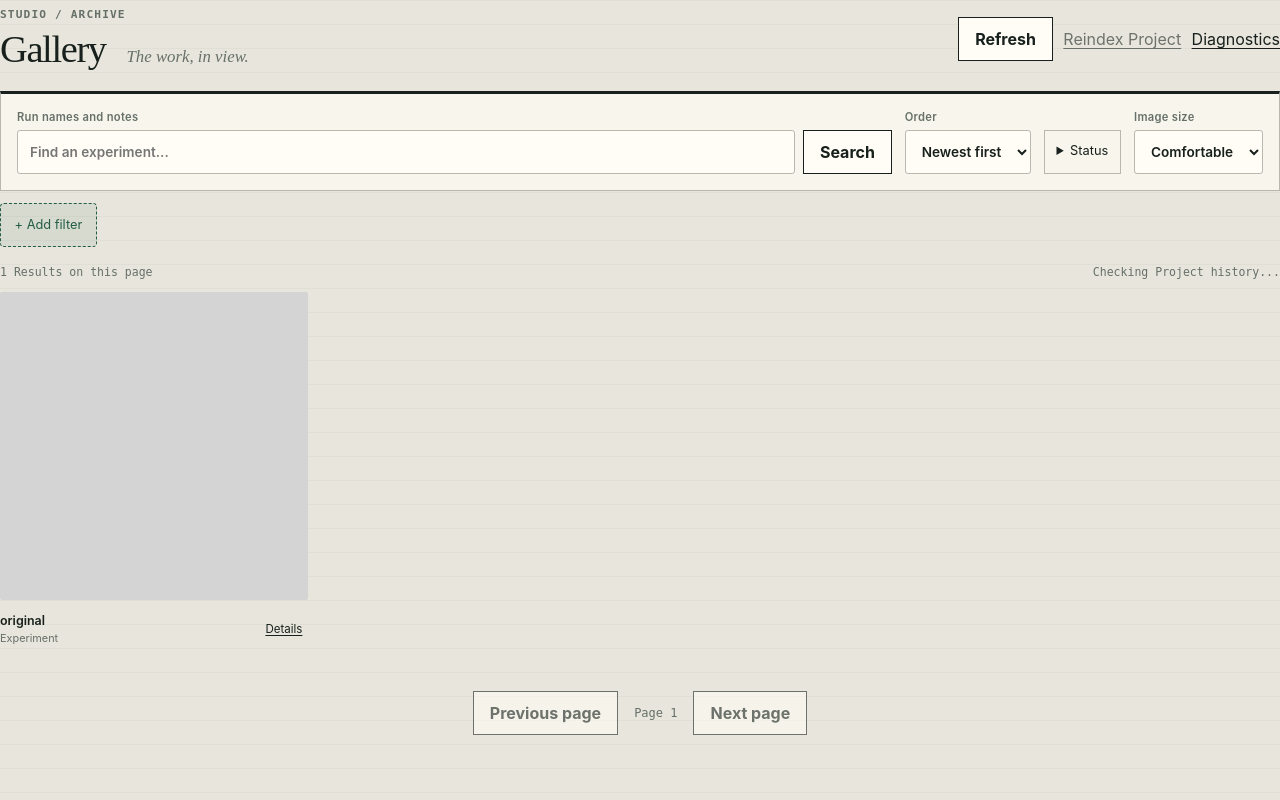
ProjectBrowser › offers an execution-independent frozen setup after gallery inspection fails
What coordinates should you click on to do the following:
click the button with aria-label "Details for"
I would click on:
 (284, 629)
Its box is [260,607,308,651].
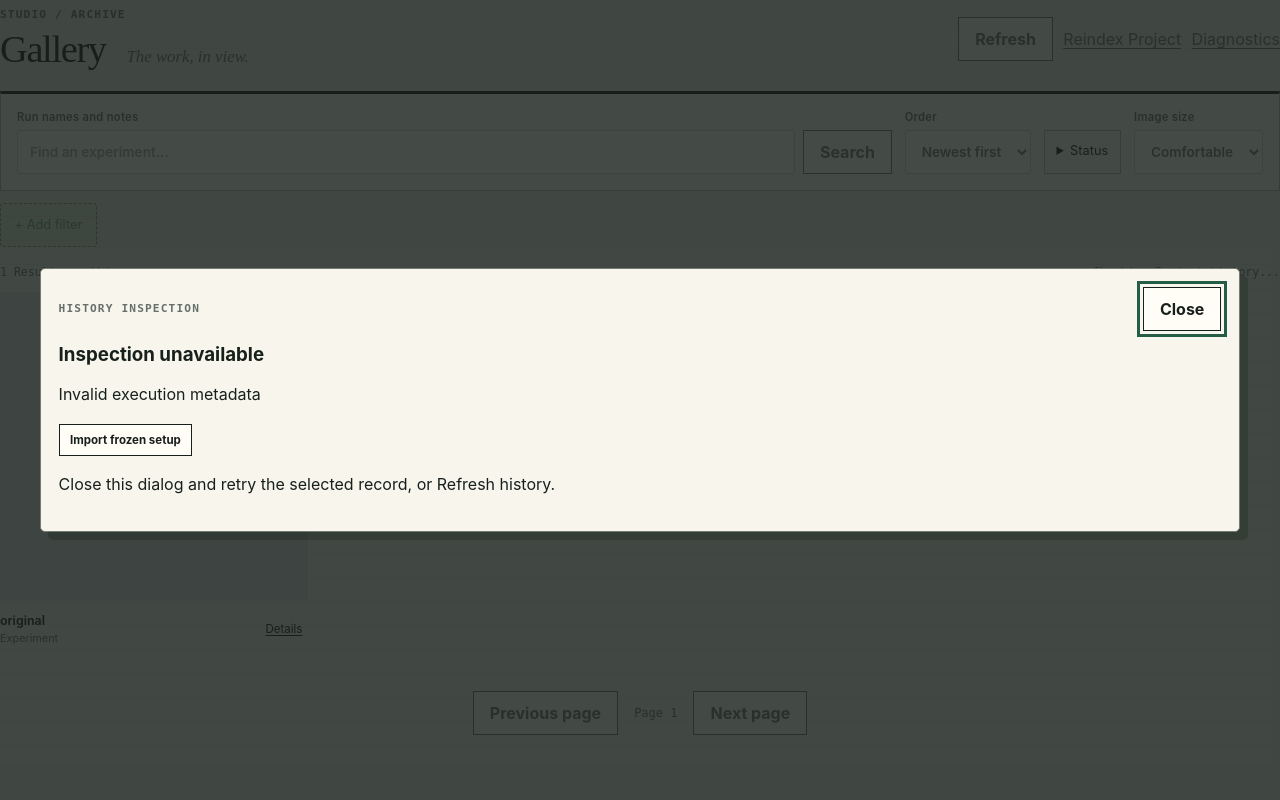
What coordinates should you click on to do the following:
click the button "Import frozen setup"
I would click on:
 (125, 440)
Its box is [59,424,192,456].
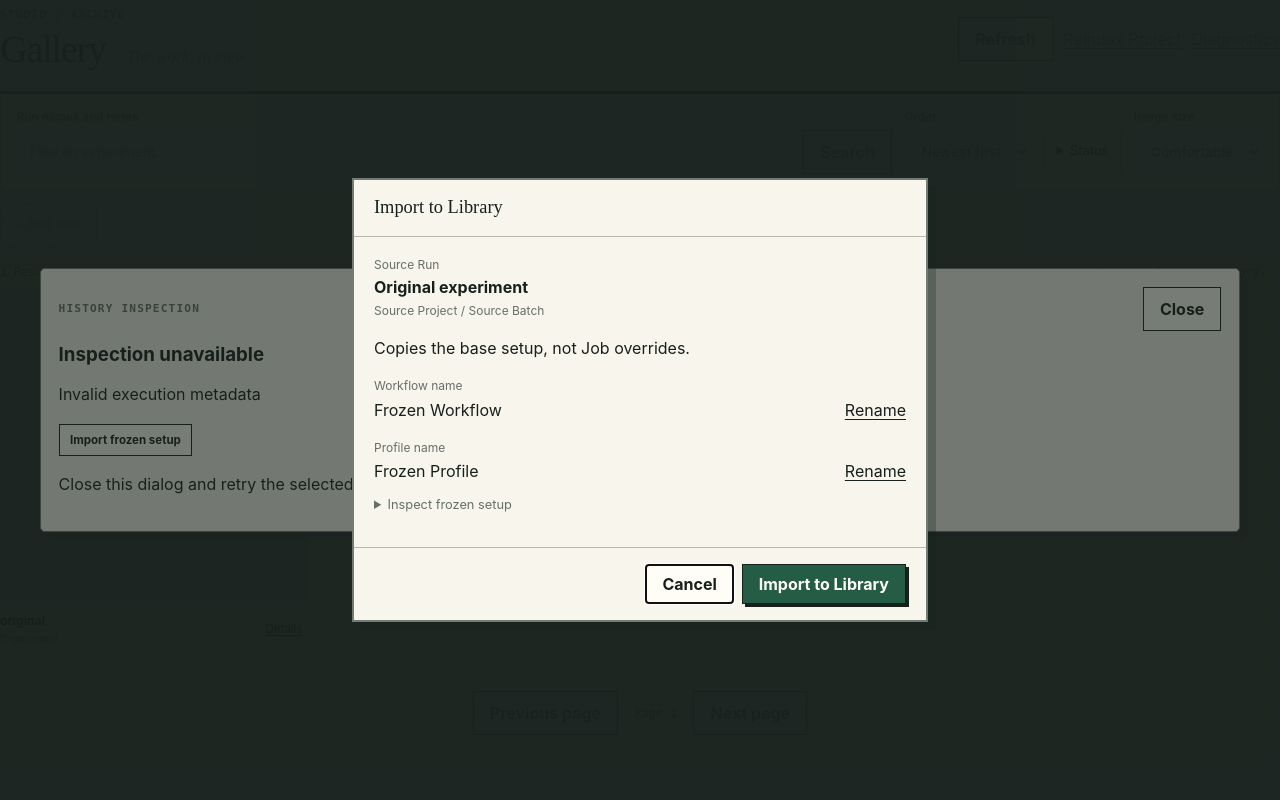
Now the text "Frozen Workflow" is shown, box [374,400,502,420]
What coordinates should you click on to do the following:
click the button "Import to Library"
I would click on:
 (824, 584)
Its box is [742,564,906,604].
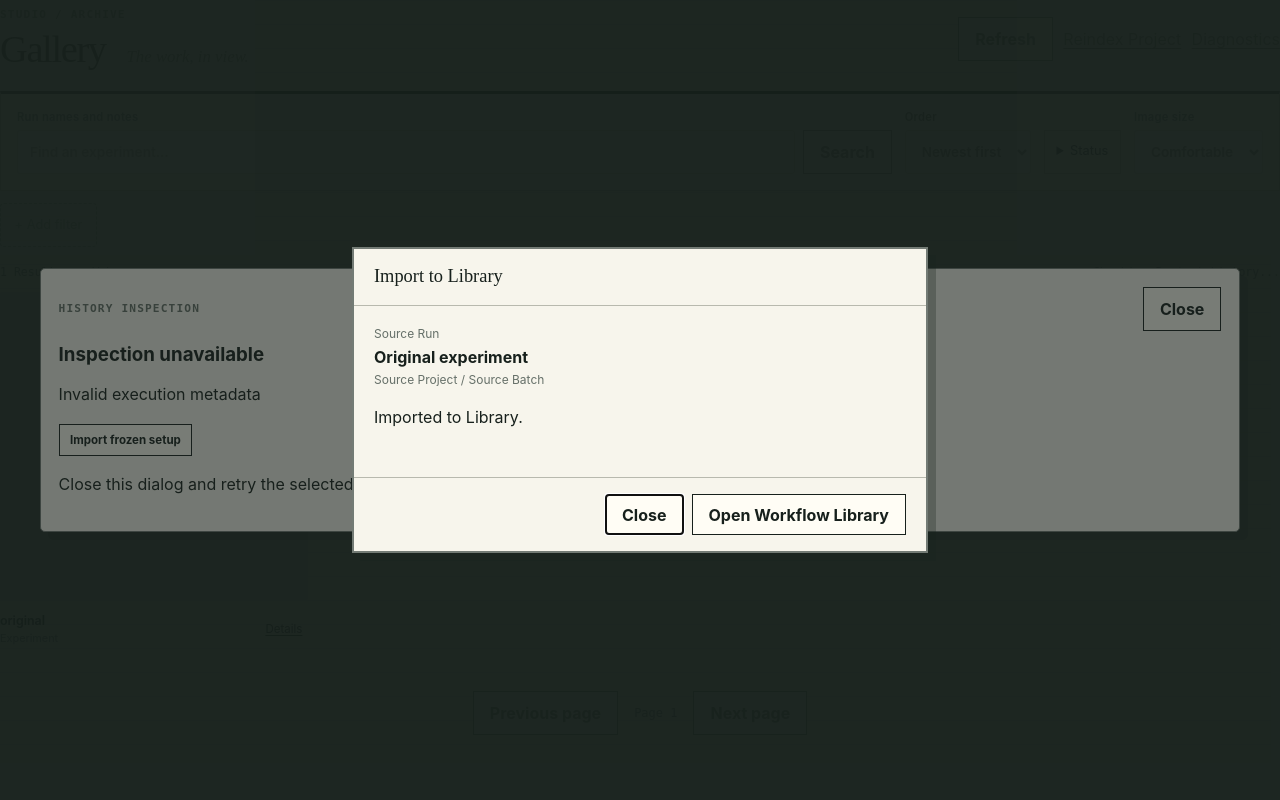
Now the text "Imported to Library." is shown, box [374,407,523,427]
